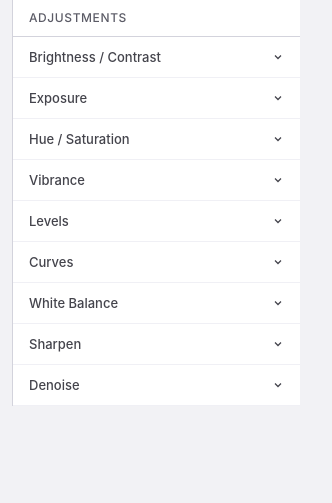
Test: AdjustmentsPanel › only one section can be open at a time
Click the button "Brightness / Contrast": (156,57) x1=13 y1=37 x2=300 y2=77
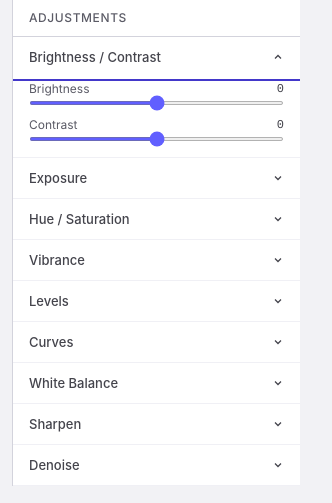
Result: the number of sliders is 2 at x1=29 y1=101 x2=284 y2=105; x1=29 y1=137 x2=284 y2=141
Click the button "Exposure": (58,178) x1=13 y1=158 x2=300 y2=198
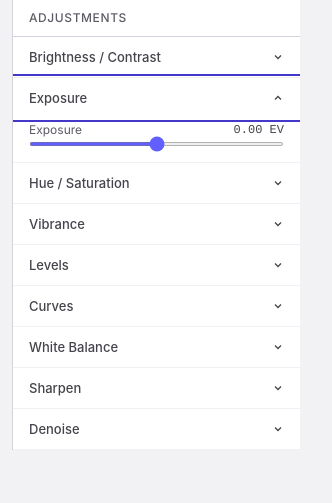
Result: the number of sliders is 1 at x1=29 y1=142 x2=284 y2=146
